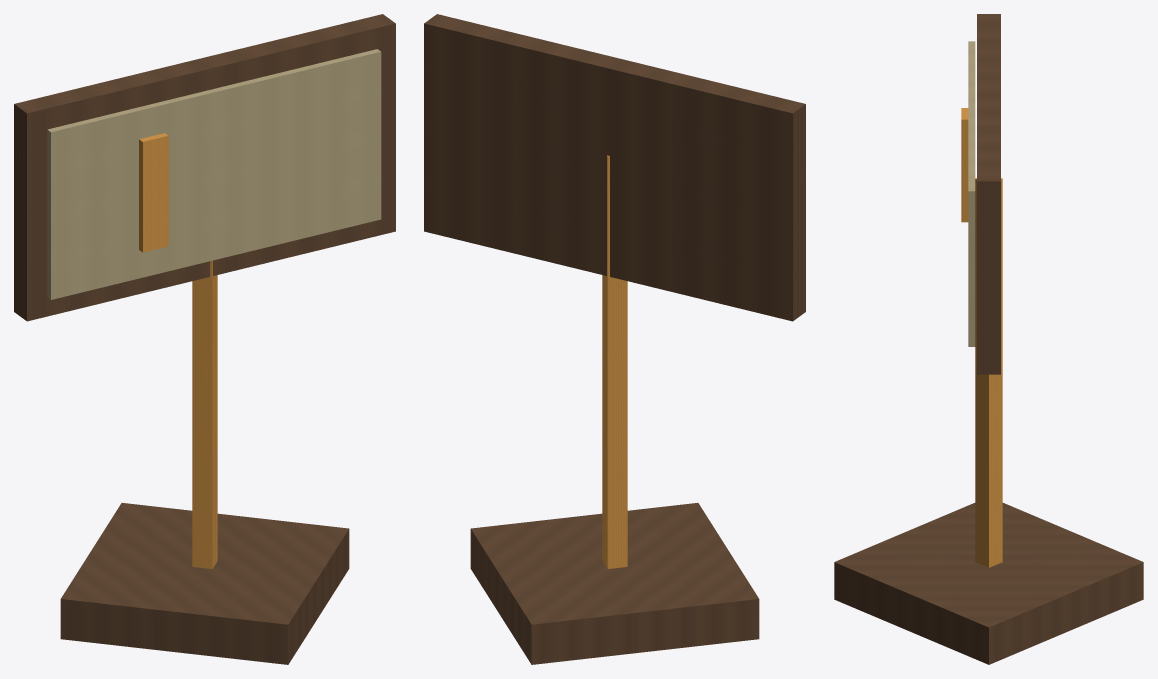
File: atlas100-s011-a11.lod2.glb
The picture shows the model from 3 angles, left to right: view 1: azimuth 30°, elevation 25°; view 2: azimuth 150°, elevation 25°; view 3: azimuth 270°, elevation 25°; orthographic projection. The views are drawn at different scales.
Parts seen in each view (by area): view 1: atlas100-s011-a11:part-003, atlas100-s011-a11:part-000, atlas100-s011-a11:part-002, atlas100-s011-a11:part-001, atlas100-s011-a11:part-004; view 2: atlas100-s011-a11:part-002, atlas100-s011-a11:part-000, atlas100-s011-a11:part-001; view 3: atlas100-s011-a11:part-000, atlas100-s011-a11:part-002, atlas100-s011-a11:part-001, atlas100-s011-a11:part-003, atlas100-s011-a11:part-004.
Boxes of the visible parts, x1,y1,x2,y2 form: atlas100-s011-a11:part-003: (47,49,381,299); atlas100-s011-a11:part-000: (60,503,349,664); atlas100-s011-a11:part-002: (14,14,395,321); atlas100-s011-a11:part-001: (192,260,217,568); atlas100-s011-a11:part-004: (139,133,168,252); atlas100-s011-a11:part-002: (424,14,805,321); atlas100-s011-a11:part-000: (470,503,759,664); atlas100-s011-a11:part-001: (602,155,627,568); atlas100-s011-a11:part-000: (834,503,1143,664); atlas100-s011-a11:part-002: (977,14,1000,374); atlas100-s011-a11:part-001: (975,178,1002,567); atlas100-s011-a11:part-003: (968,41,975,346); atlas100-s011-a11:part-004: (961,108,968,222).
Bounding box in the file's own units: 1.15 × 1.61 × 0.9.
3 materials, 3 textured.
